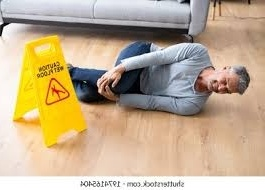fall: (82, 38, 256, 116)
